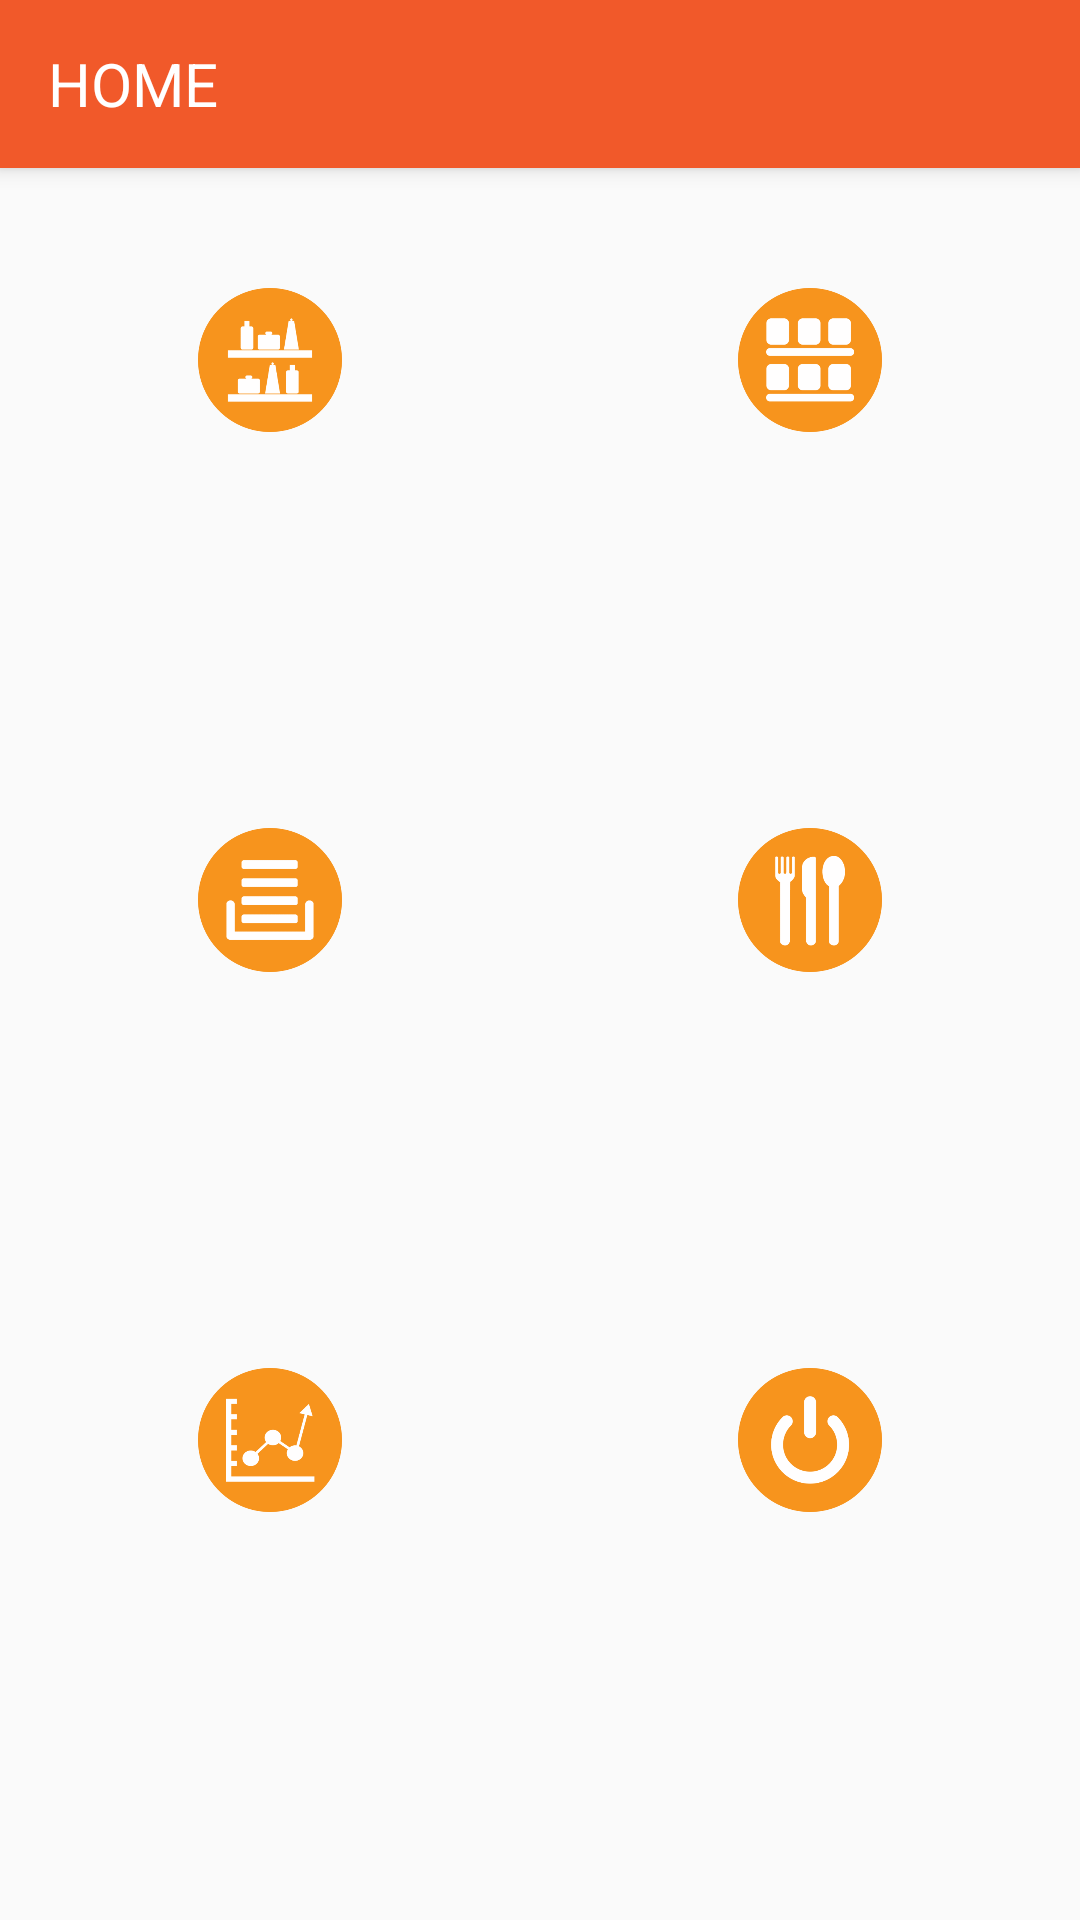

Icons on this 1080×1920 Android screen, each with the point to tap as point (x, y):
reports: point (270, 1440)
